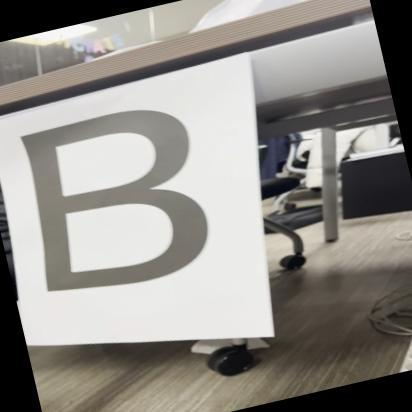seat: (3, 90, 238, 316)
